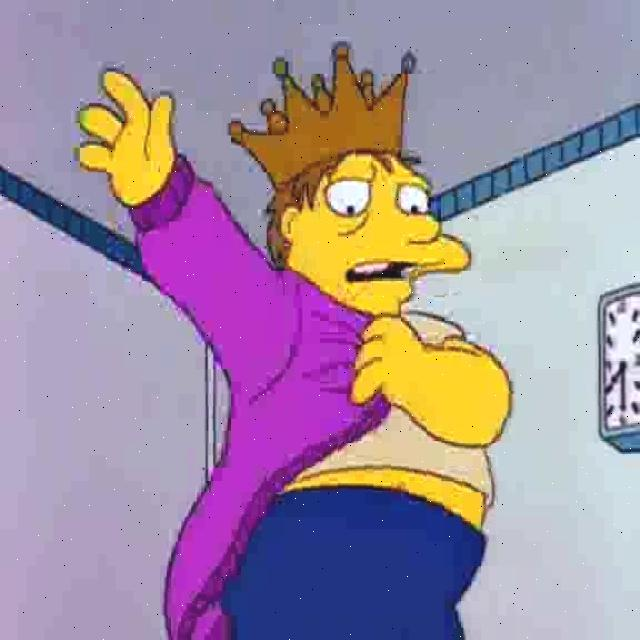Barney Gumble: (255, 146, 472, 322)
